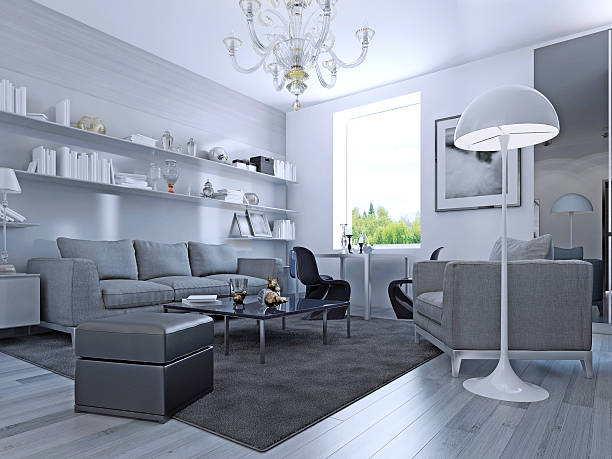chair: (409, 235, 598, 382), (285, 243, 353, 346)
floor lamp: (450, 85, 563, 408)
sofa: (25, 234, 292, 348)
table: (162, 290, 354, 364)
table lamp: (0, 162, 23, 275)
wall art: (432, 111, 523, 213)
